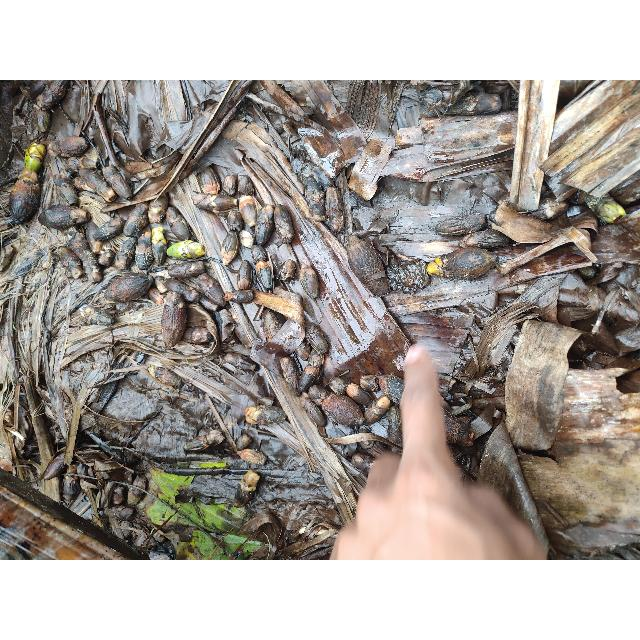damaged: (347, 233, 387, 295), (429, 250, 491, 280), (9, 170, 41, 223), (103, 271, 155, 301), (321, 394, 363, 430), (448, 90, 502, 116), (38, 204, 90, 230), (162, 292, 186, 346), (80, 168, 116, 202), (436, 213, 484, 237), (102, 165, 132, 201), (35, 80, 69, 110), (122, 202, 150, 238), (526, 199, 570, 221), (162, 278, 202, 302), (362, 393, 392, 425), (72, 304, 115, 326), (47, 136, 89, 158), (254, 204, 276, 246), (462, 230, 508, 250), (56, 247, 84, 279), (92, 215, 126, 241), (147, 364, 181, 390), (274, 204, 294, 248), (184, 430, 224, 452), (166, 206, 190, 242), (326, 186, 344, 234), (165, 260, 208, 280), (245, 405, 287, 425), (164, 240, 206, 260), (198, 274, 224, 306), (114, 236, 138, 270), (194, 193, 232, 214), (378, 374, 402, 406), (302, 396, 326, 428), (299, 262, 319, 300), (69, 226, 91, 260), (305, 322, 329, 353), (136, 232, 154, 272), (238, 194, 258, 230), (280, 356, 300, 392), (262, 309, 282, 343), (84, 220, 104, 254), (80, 249, 102, 279), (221, 230, 239, 266), (148, 193, 168, 225), (198, 166, 220, 194), (304, 176, 326, 204), (256, 257, 274, 291), (22, 80, 52, 100), (298, 366, 320, 392), (346, 384, 372, 406), (32, 106, 52, 134), (388, 406, 402, 446), (182, 326, 212, 344), (223, 353, 253, 371), (237, 449, 266, 467), (237, 260, 253, 292), (352, 452, 374, 474), (73, 174, 97, 194), (58, 182, 78, 205), (328, 375, 350, 395), (114, 202, 136, 222), (280, 260, 298, 284), (308, 348, 326, 372), (152, 240, 166, 268), (238, 175, 255, 198), (228, 210, 244, 234), (226, 290, 252, 304), (308, 386, 328, 404), (359, 374, 379, 392), (221, 174, 237, 196), (252, 244, 268, 266), (98, 248, 116, 266), (238, 230, 256, 248), (236, 432, 254, 450), (296, 340, 312, 360), (78, 157, 100, 171)
